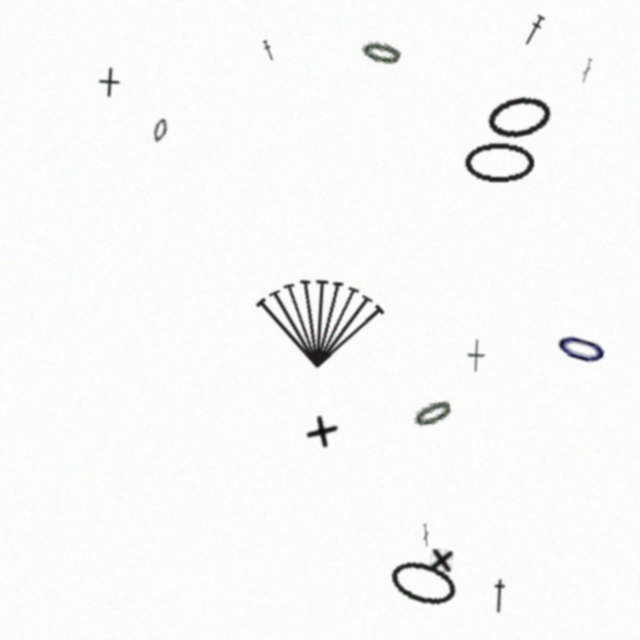chain: (385, 554, 462, 613), (484, 91, 555, 142), (550, 322, 614, 375), (464, 142, 534, 182), (410, 395, 454, 431), (360, 38, 402, 66), (151, 118, 169, 144)
double: (579, 58, 594, 84), (422, 524, 430, 547)
fan: (250, 266, 389, 373)
half_double: (520, 13, 547, 48), (488, 578, 511, 614), (261, 39, 276, 62)
single: (302, 410, 343, 452), (97, 67, 121, 98), (467, 339, 486, 373), (430, 549, 453, 572)
